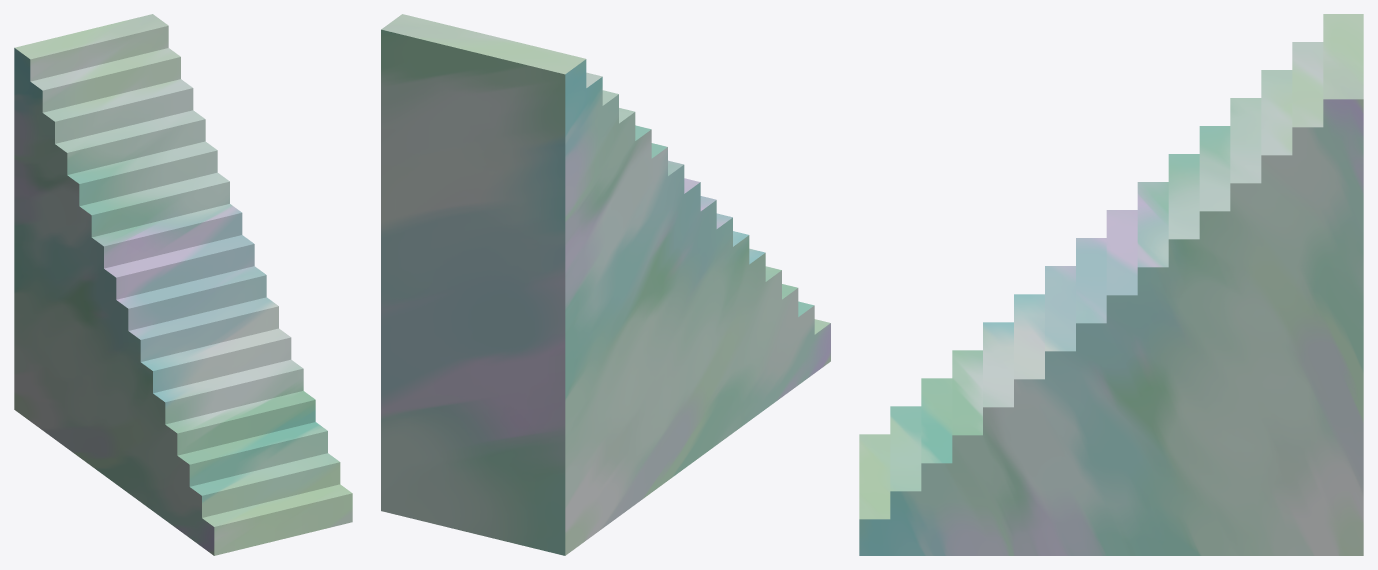
Rendered from Stairs_Five.glb.
3 views of the same model, side by side, from view 1: azimuth 30°, elevation 25°; view 2: azimuth 150°, elevation 25°; view 3: azimuth 270°, elevation 25° (orthographic). The views are drawn at different scales.
Visible parts, largest first — view 1: Stairs_Five; view 2: Stairs_Five; view 3: Stairs_Five.
Part boxes in pixels (left/top/right/bottom): Stairs_Five: left=14, top=14, right=352, bottom=555; Stairs_Five: left=381, top=14, right=830, bottom=555; Stairs_Five: left=859, top=14, right=1363, bottom=555.
Size of the model in its own units: 2 by 5 by 5.
Materials: 1 (1 with a texture image).
